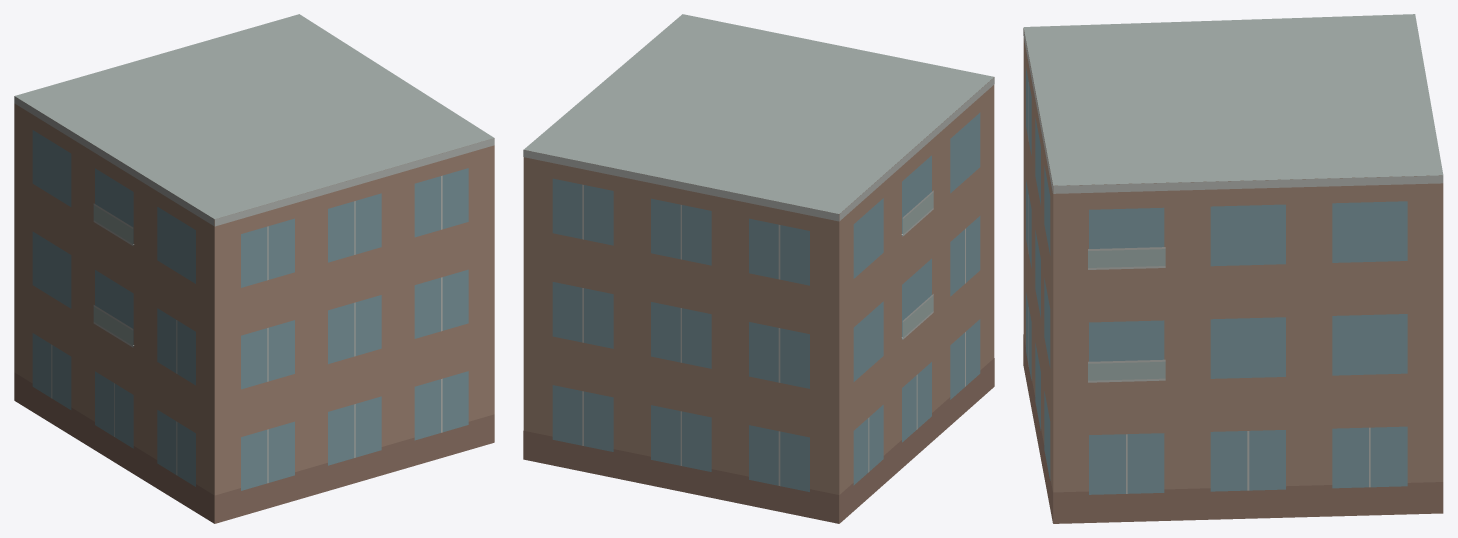
The model's file is survey-upis-32663100.glb.
The picture shows the model from 3 angles, left to right: view 1: azimuth 30°, elevation 25°; view 2: azimuth 150°, elevation 25°; view 3: azimuth 270°, elevation 25°; orthographic projection. The views are drawn at different scales.
Parts seen in each view (by area): view 1: survey-upis-32663100.tmp; view 2: survey-upis-32663100.tmp; view 3: survey-upis-32663100.tmp.
Boxes of the visible parts, left/top/right/bottom form: survey-upis-32663100.tmp: left=14, top=14, right=494, bottom=523; survey-upis-32663100.tmp: left=523, top=14, right=994, bottom=523; survey-upis-32663100.tmp: left=1023, top=14, right=1443, bottom=523.
Bounding box in the file's own units: 11.13 × 10.2 × 11.49.
